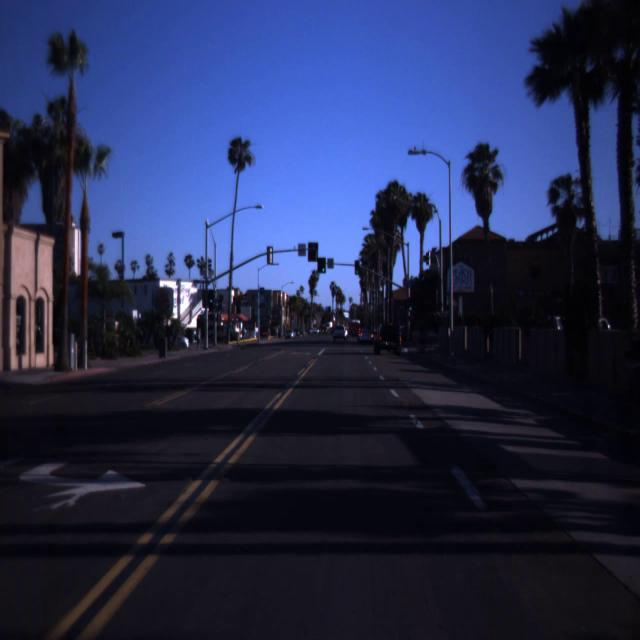go: (352, 258, 362, 275), (406, 295, 415, 311), (320, 256, 326, 273)
go traffic light: (352, 258, 362, 275), (406, 295, 415, 311), (320, 256, 326, 273)
